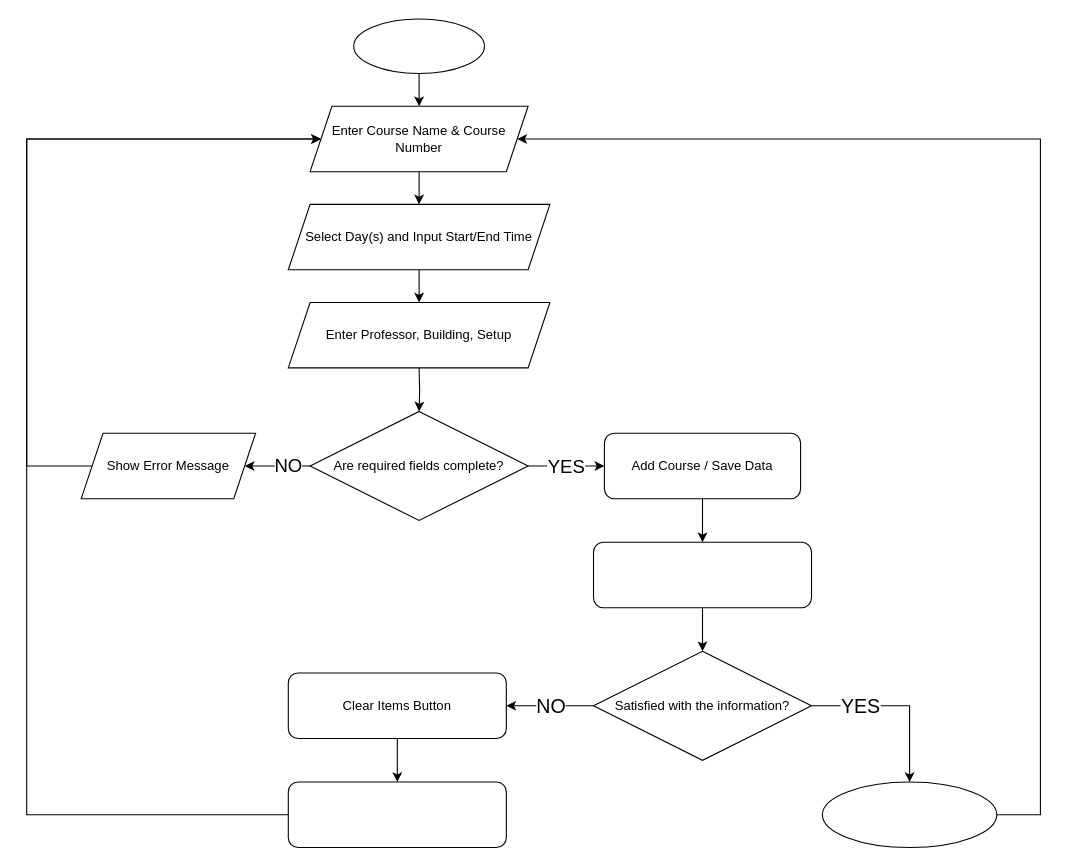
Some shapes in this 1068 by 867 pixel diagram are drawn without their labels. Here are the shapes that lost their labels. From the top down, the centre of each, then its label:
At point (419, 46): "Start".
At point (702, 574): "Display in Recently Added Table".
At point (396, 814): "Remove All Table Entries".
At point (909, 814): "End / Ready for New Entry".
